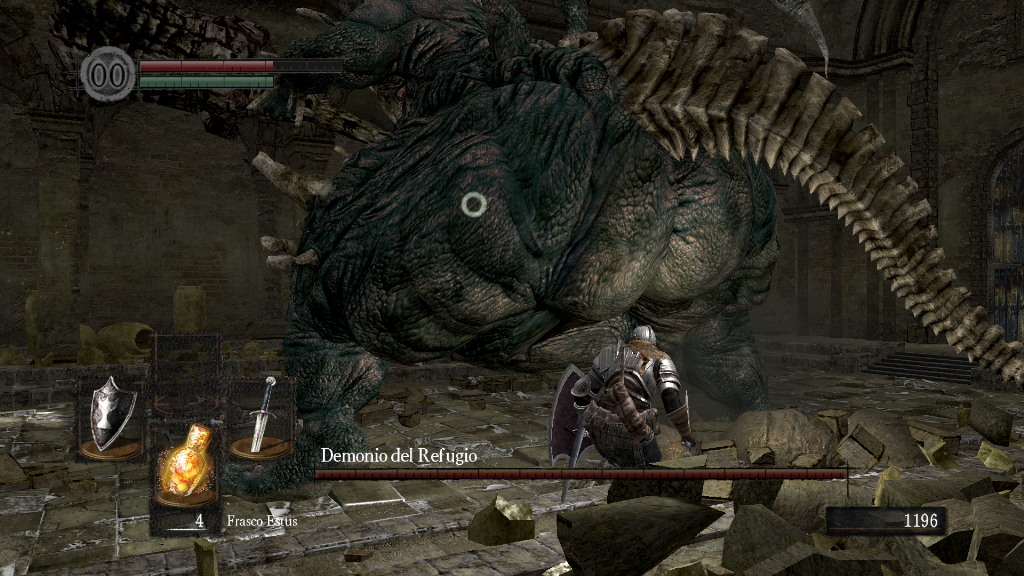asylumDemon: (210, 6, 1024, 503)
bossHP: (314, 469, 847, 479)
health: (138, 58, 343, 71)
humanity: (80, 45, 136, 102)
player: (549, 322, 695, 465)
souls: (825, 506, 945, 536)
stamina: (138, 74, 274, 88)
